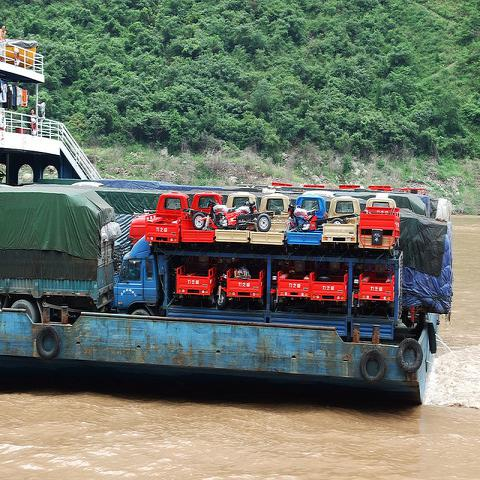car: (358, 264, 395, 314)
motorcycle: (183, 201, 228, 231), (235, 199, 275, 232), (283, 201, 319, 233), (351, 262, 365, 318), (216, 264, 231, 309)
truck: (113, 237, 404, 341), (1, 186, 123, 326), (127, 190, 188, 246), (180, 191, 226, 252), (286, 194, 328, 254), (215, 192, 257, 252), (250, 194, 291, 255), (359, 193, 400, 250), (176, 258, 222, 308), (226, 259, 268, 310), (321, 196, 361, 248), (311, 262, 348, 314), (275, 262, 312, 311)
